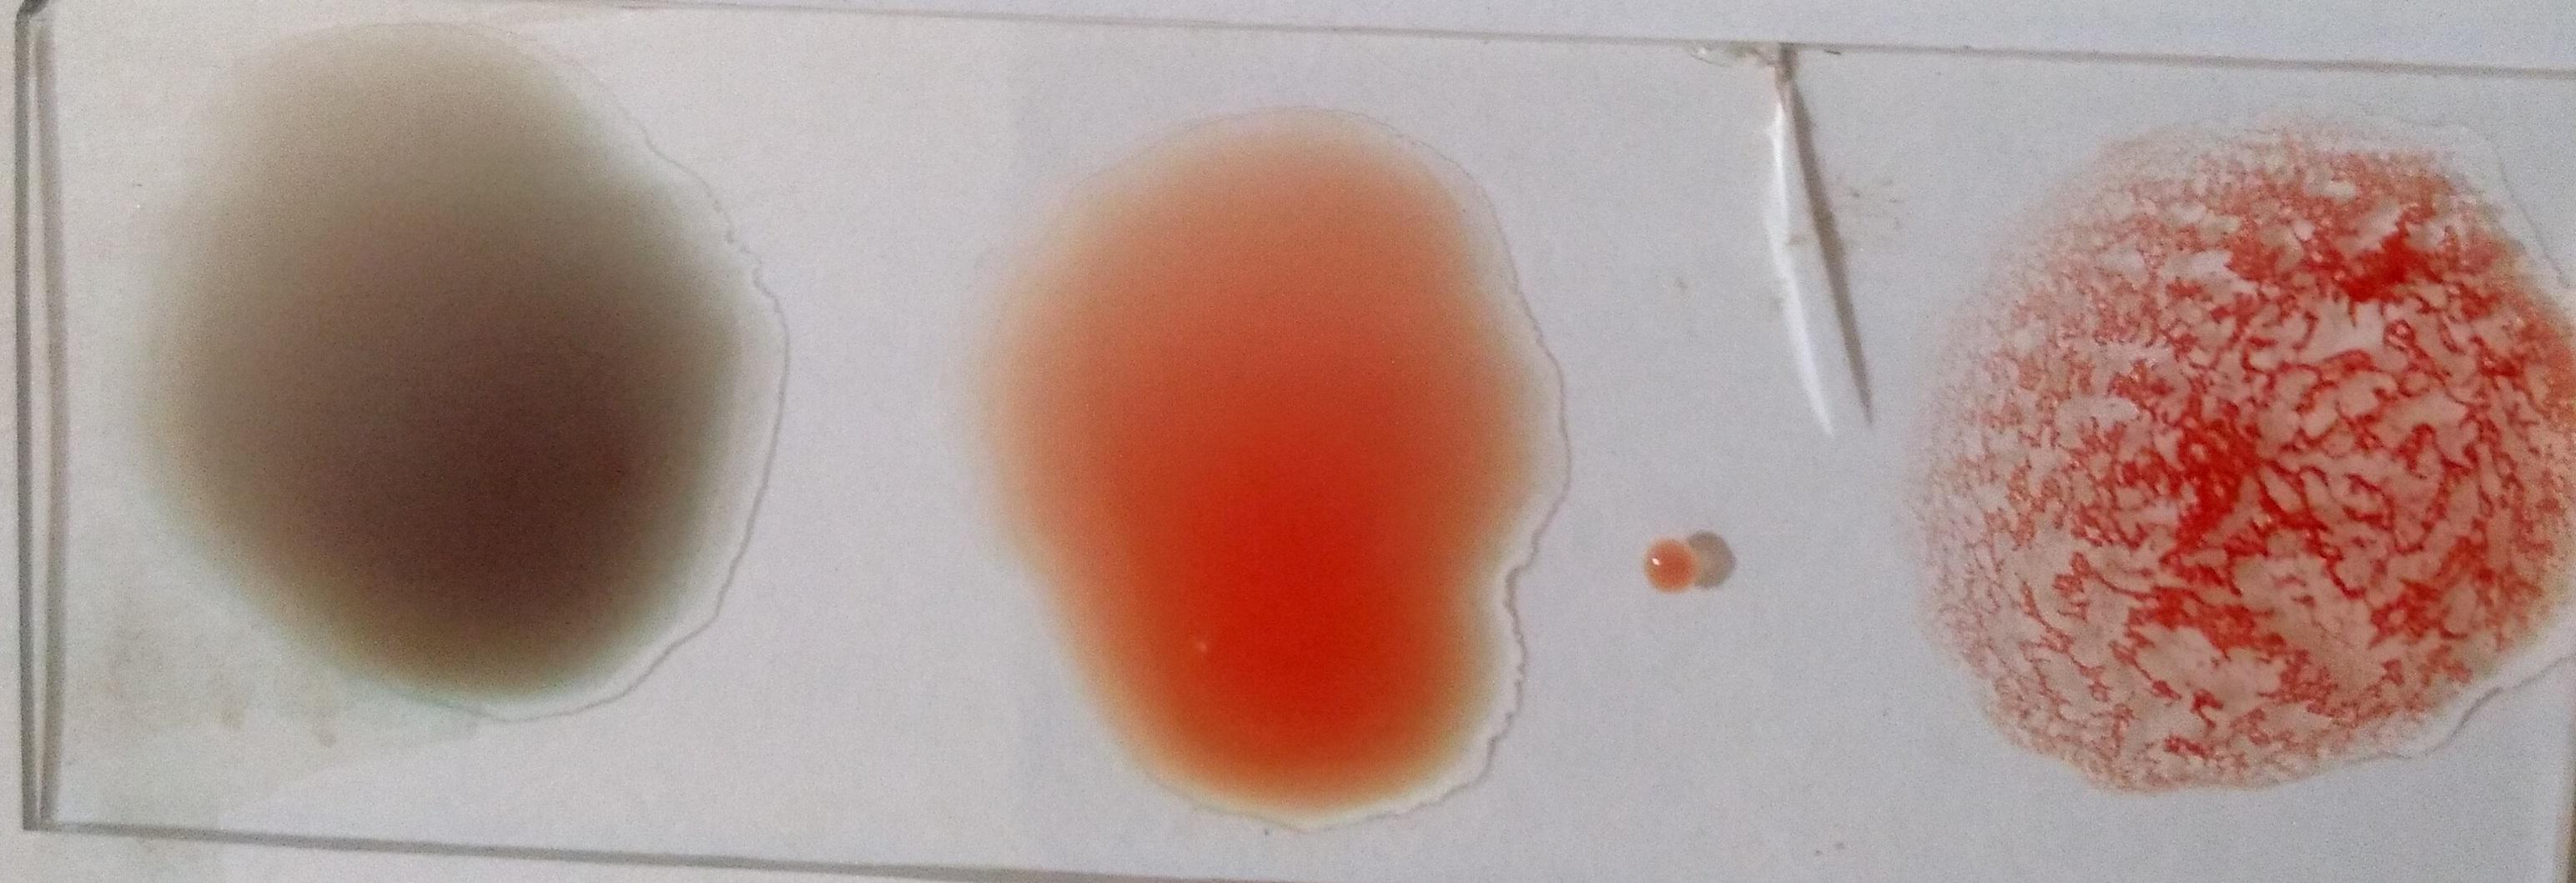D: (1919, 153, 2561, 780)
